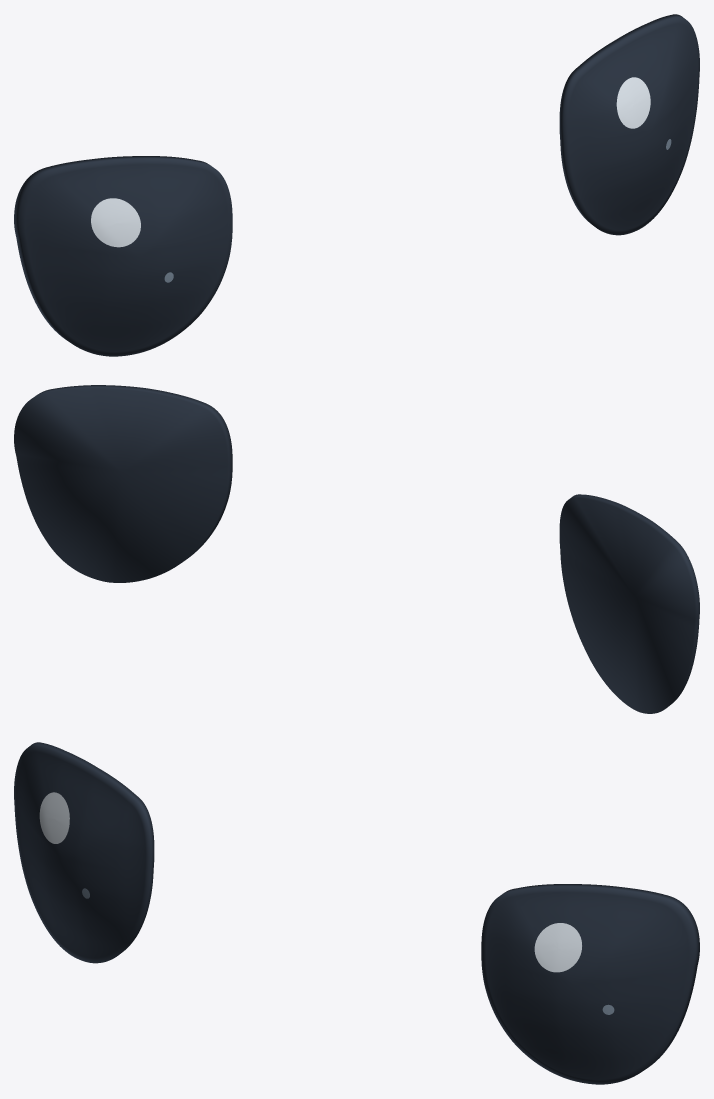
The model's file is masculine-eyes-hooded.glb.
3 views of the same model, one above another, from view 1: azimuth 30°, elevation 25°; view 2: azimuth 150°, elevation 25°; view 3: azimuth 330°, elevation 25° (orthographic).
Visible parts, largest first — view 1: 226 eyes / Eye / smoky charcoal181, 226 eyes / Eye highlight181; view 2: 226 eyes / Eye / smoky charcoal181; view 3: 226 eyes / Eye / smoky charcoal181, 226 eyes / Eye highlight181.
Boxes of the visible parts, x1,y1,x2,y2 form: 226 eyes / Eye / smoky charcoal181: (14, 14, 699, 356); 226 eyes / Eye highlight181: (91, 77, 650, 247); 226 eyes / Eye / smoky charcoal181: (14, 385, 699, 713); 226 eyes / Eye / smoky charcoal181: (14, 742, 699, 1084); 226 eyes / Eye highlight181: (39, 792, 581, 972).
Bounding box in the file's own units: 0.3686 × 0.1008 × 0.0427.
